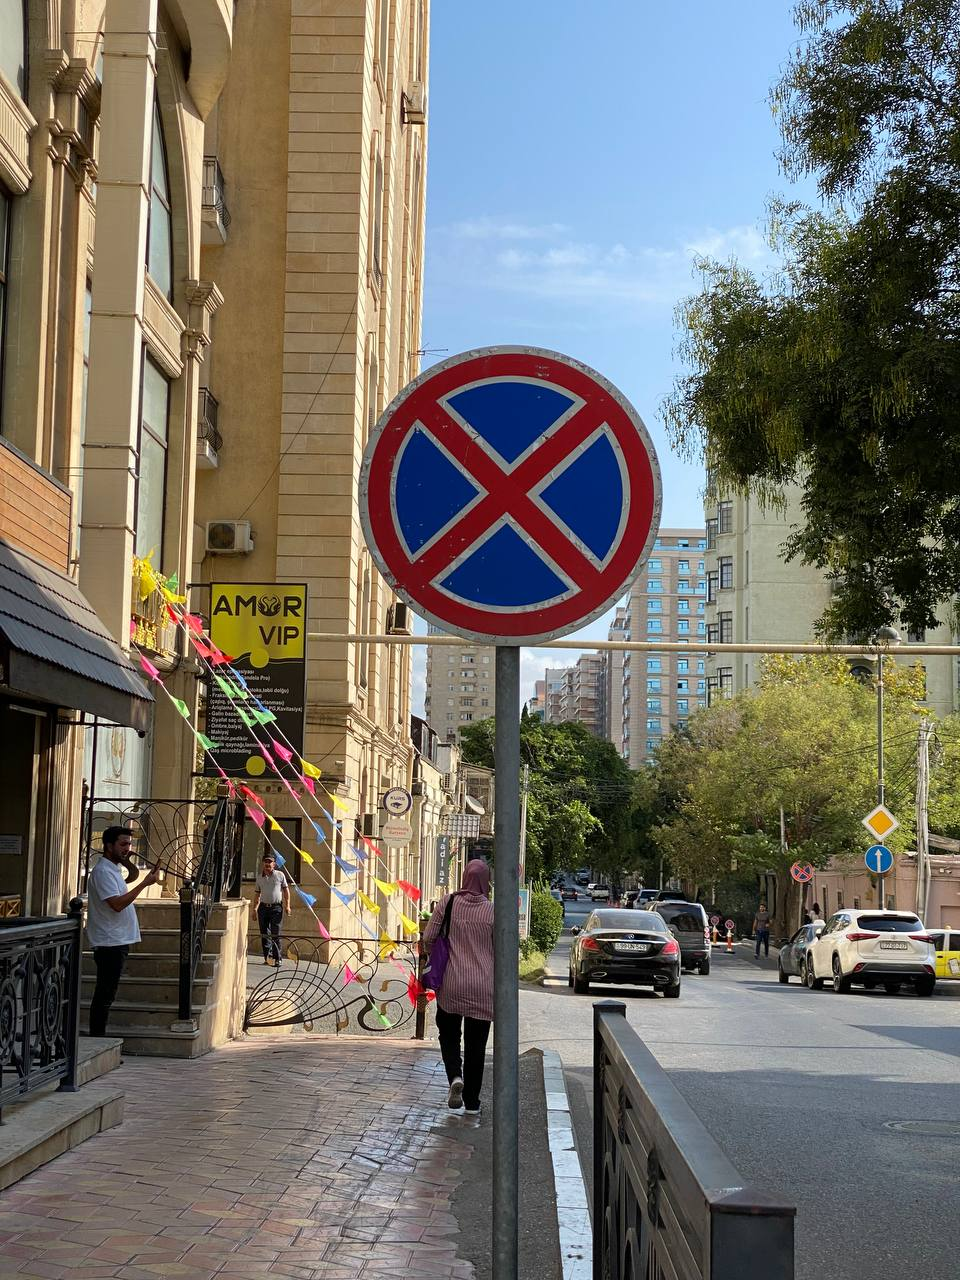No Parking: (357, 343, 662, 647)
